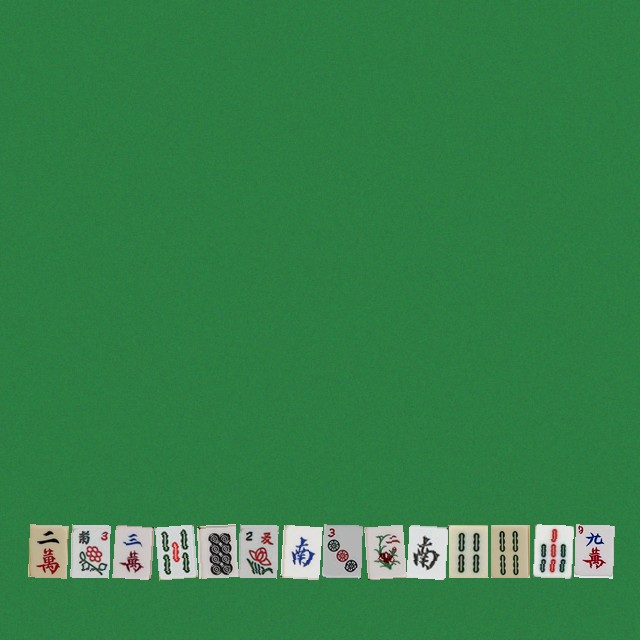tile: (28, 524, 67, 577), (70, 524, 109, 577), (112, 524, 151, 577), (154, 524, 193, 577), (196, 524, 235, 577), (238, 524, 277, 577), (280, 524, 319, 577), (322, 524, 361, 577), (364, 524, 403, 577), (406, 524, 445, 577), (448, 524, 487, 577), (490, 524, 529, 577), (532, 524, 571, 577), (574, 524, 613, 577)
